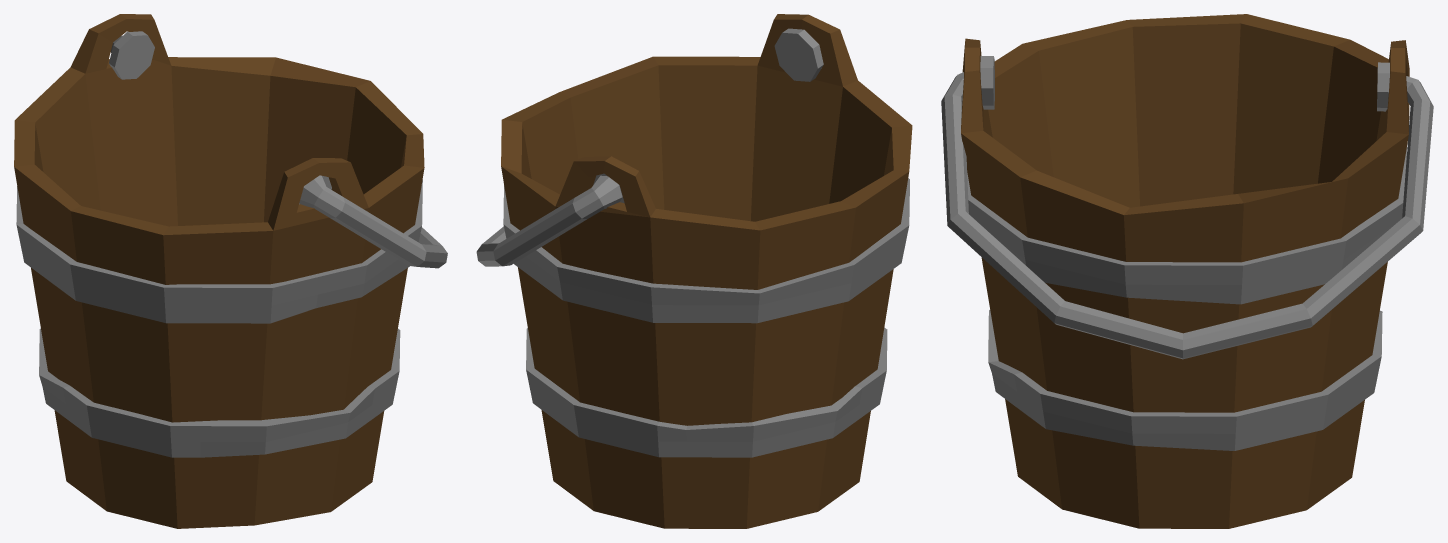
The model's file is kibir.fbx.
The picture shows the model from 3 angles, left to right: view 1: azimuth 30°, elevation 25°; view 2: azimuth 150°, elevation 25°; view 3: azimuth 270°, elevation 25°; orthographic projection. The views are drawn at different scales.
Visible parts, largest first — view 1: Cylinder; view 2: Cylinder; view 3: Cylinder.
Boxes of the visible parts, left/top/right/bottom form: Cylinder: left=14, top=14, right=447, bottom=528; Cylinder: left=476, top=14, right=912, bottom=528; Cylinder: left=941, top=14, right=1433, bottom=528.
Bounding box in the file's own units: 243 × 235 × 255.
